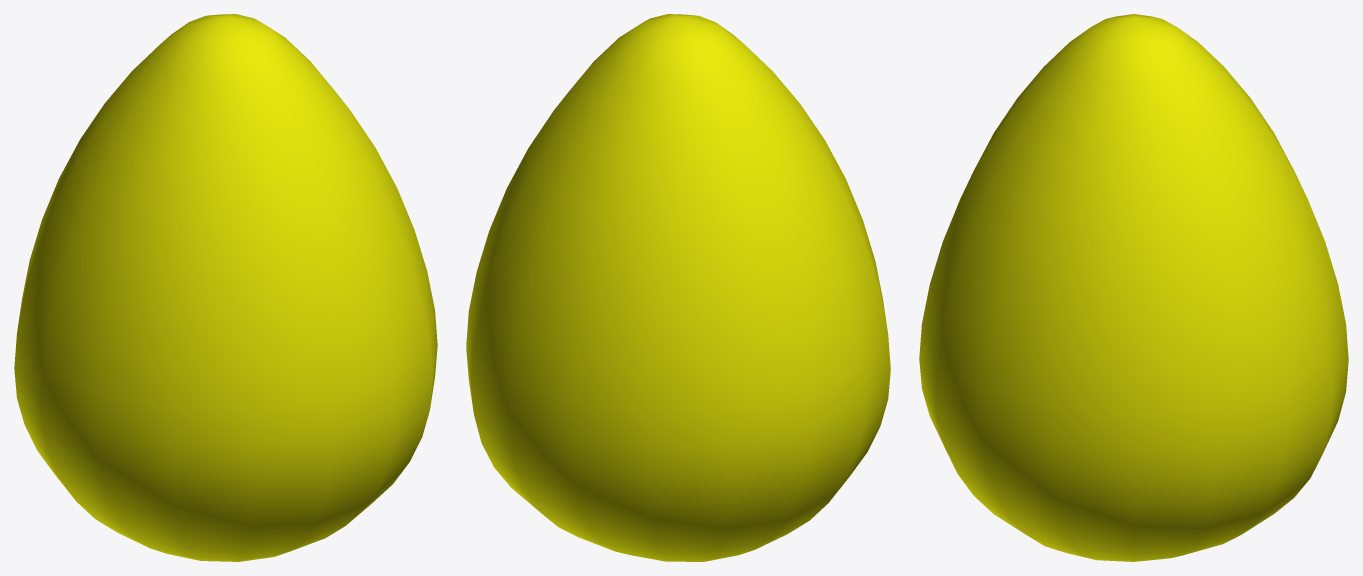
The model's file is Egg.fbx.
The picture shows the model from 3 angles, left to right: view 1: azimuth 30°, elevation 25°; view 2: azimuth 150°, elevation 25°; view 3: azimuth 270°, elevation 25°; orthographic projection.
Parts seen in each view (by area): view 1: Sphere; view 2: Sphere; view 3: Sphere.
Part boxes in pixels (x1=…): Sphere: x1=14, y1=14, x2=437, y2=561; Sphere: x1=466, y1=14, x2=890, y2=561; Sphere: x1=919, y1=14, x2=1348, y2=561.
Bounding box in the file's own units: 35.51 × 47.94 × 35.51.
